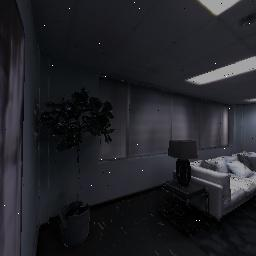sofa: (179, 148, 256, 227)
